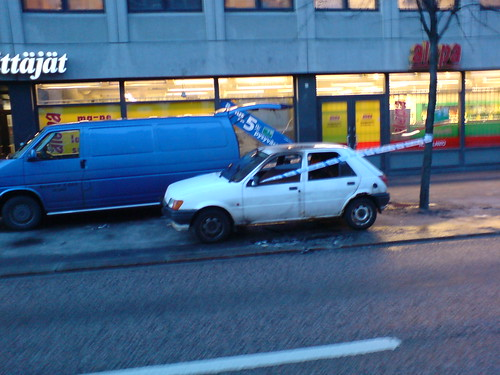building: (15, 1, 496, 157)
car: (179, 143, 384, 236)
street: (1, 224, 500, 375)
van: (11, 112, 246, 221)
